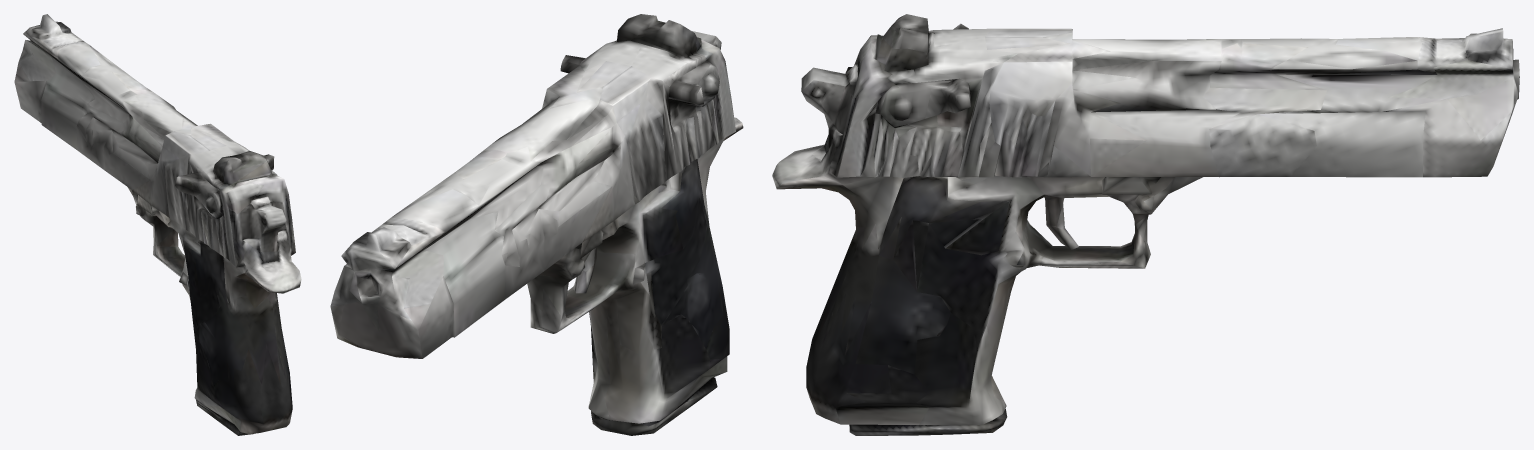
Rendered from w_deagle.glb.
The picture shows the model from 3 angles, left to right: view 1: azimuth 30°, elevation 25°; view 2: azimuth 150°, elevation 25°; view 3: azimuth 270°, elevation 25°; orthographic projection. The views are drawn at different scales.
Visible parts, largest first — view 1: tripo_node_f0f413a2-f05f-48c8-8b61-a0db789c4451; view 2: tripo_node_f0f413a2-f05f-48c8-8b61-a0db789c4451; view 3: tripo_node_f0f413a2-f05f-48c8-8b61-a0db789c4451.
Part boxes in pixels (left/top/right/bottom): tripo_node_f0f413a2-f05f-48c8-8b61-a0db789c4451: left=14, top=14, right=301, bottom=435; tripo_node_f0f413a2-f05f-48c8-8b61-a0db789c4451: left=330, top=14, right=743, bottom=435; tripo_node_f0f413a2-f05f-48c8-8b61-a0db789c4451: left=772, top=14, right=1519, bottom=435.
Size of the model in its own units: 0.2295 by 0.5838 by 1.
1 material, 1 textured.
